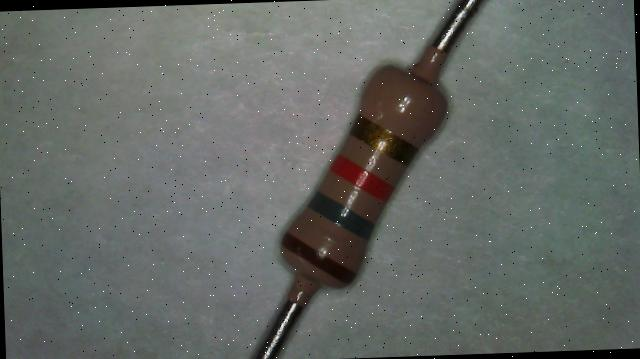brown: (281, 230, 355, 286)
gold: (350, 114, 420, 167)
grey: (307, 188, 375, 240)
orange: (331, 154, 393, 200)
resistor: (230, 33, 484, 326)
